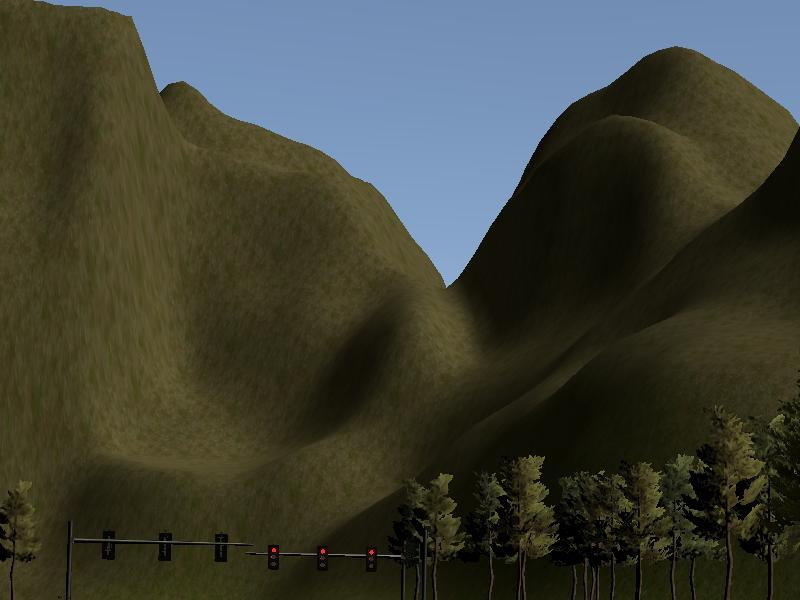red_light: (268, 543, 279, 567), (317, 546, 329, 568), (368, 548, 378, 569)
